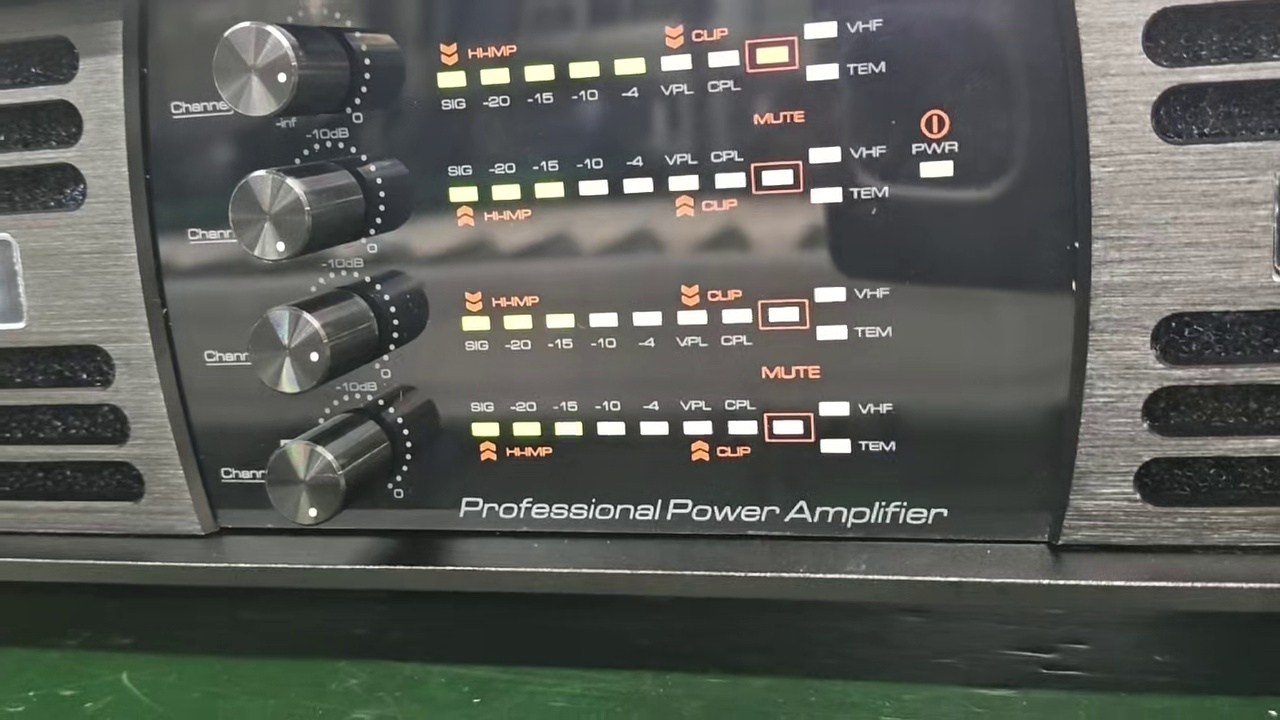FP_CPL: (702, 43, 744, 104), (707, 143, 747, 196), (721, 393, 762, 441), (717, 305, 757, 353)
FP_PWR: (908, 139, 962, 183)
FP_PWR_area: (905, 103, 967, 188)
FP_SIG_area: (430, 12, 888, 113), (442, 139, 894, 234), (460, 392, 903, 468), (458, 283, 901, 354)
FP_VPL: (661, 146, 702, 193), (658, 46, 693, 100), (673, 304, 710, 352), (677, 395, 715, 437)
